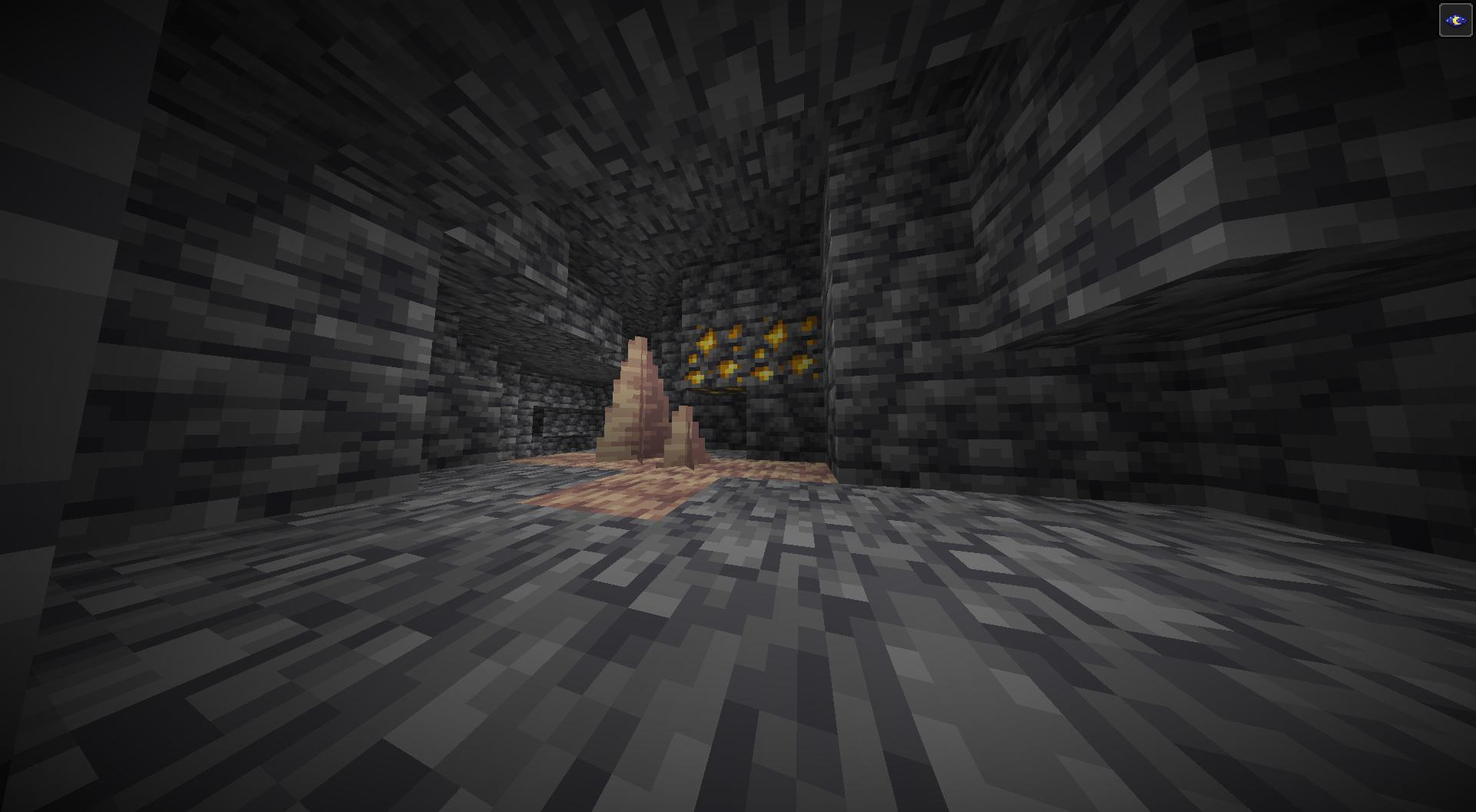gold ore: (745, 312, 827, 382), (681, 323, 743, 387)
